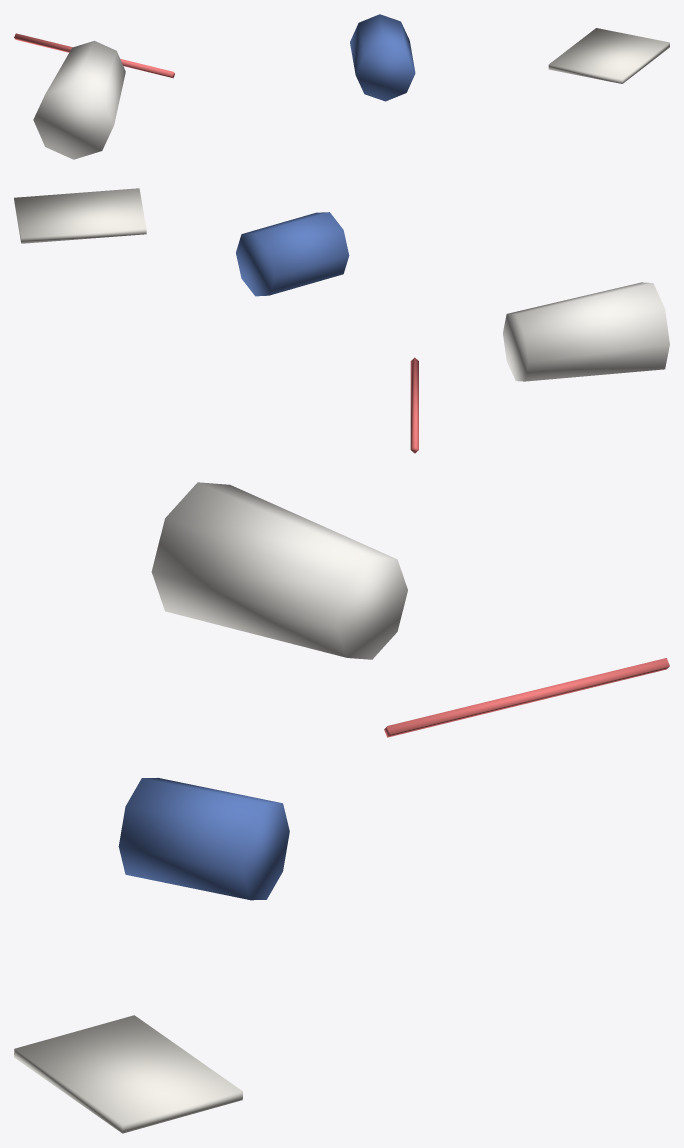
File: litter_a.glb
3 renders of one model, top to bottom at view 1: azimuth 30°, elevation 25°; view 2: azimuth 150°, elevation 25°; view 3: azimuth 270°, elevation 25°, orthographic. The views are drawn at different scales.
Parts seen in each view (by area): view 1: litter_a; view 2: litter_a; view 3: litter_a.
Boxes of the visible parts, left/top/right/bottom form: litter_a: left=14, top=14, right=669, bottom=159; litter_a: left=14, top=188, right=669, bottom=453; litter_a: left=14, top=482, right=669, bottom=1133.
Size of the model in its own units: 0.7646 by 0.1058 by 0.4065.
